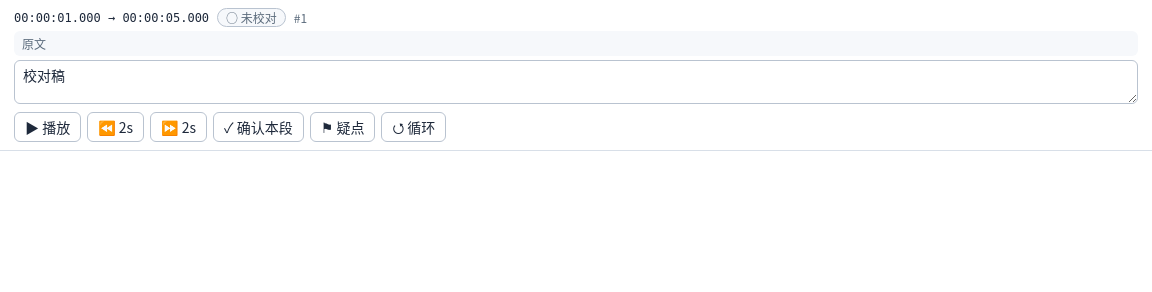
it: 行内疑点类型选择层（PRD V1.0.4 AC-044） › 点击 ⚑ 只展开选择层：8 类菜单项、无预选、不创建记录、aria-expanded 同步
Click the button "⚑ 疑点" at {"x": 343, "y": 127}, box [310, 112, 375, 142]
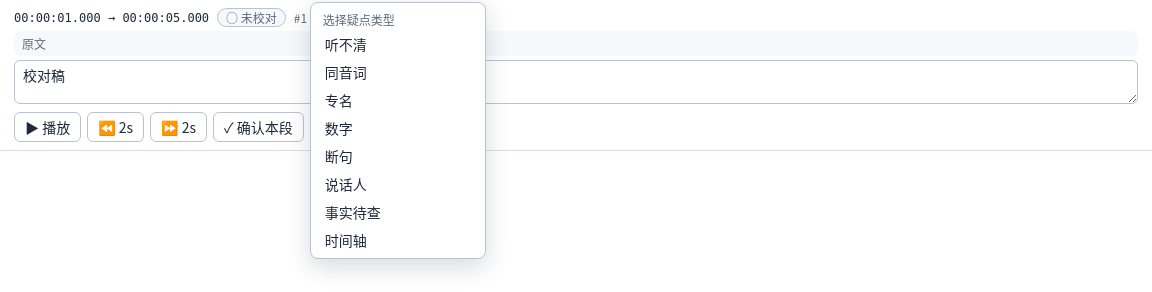
Expected: the button "⚑ 疑点" is expanded, [310, 112, 375, 142]
Expected: the menu is shown, [310, 2, 486, 259]
Expected: the number of menu items is 8
